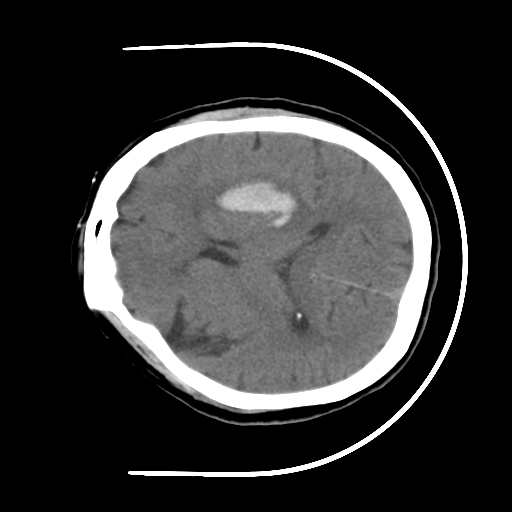a: (186, 161, 322, 244)
